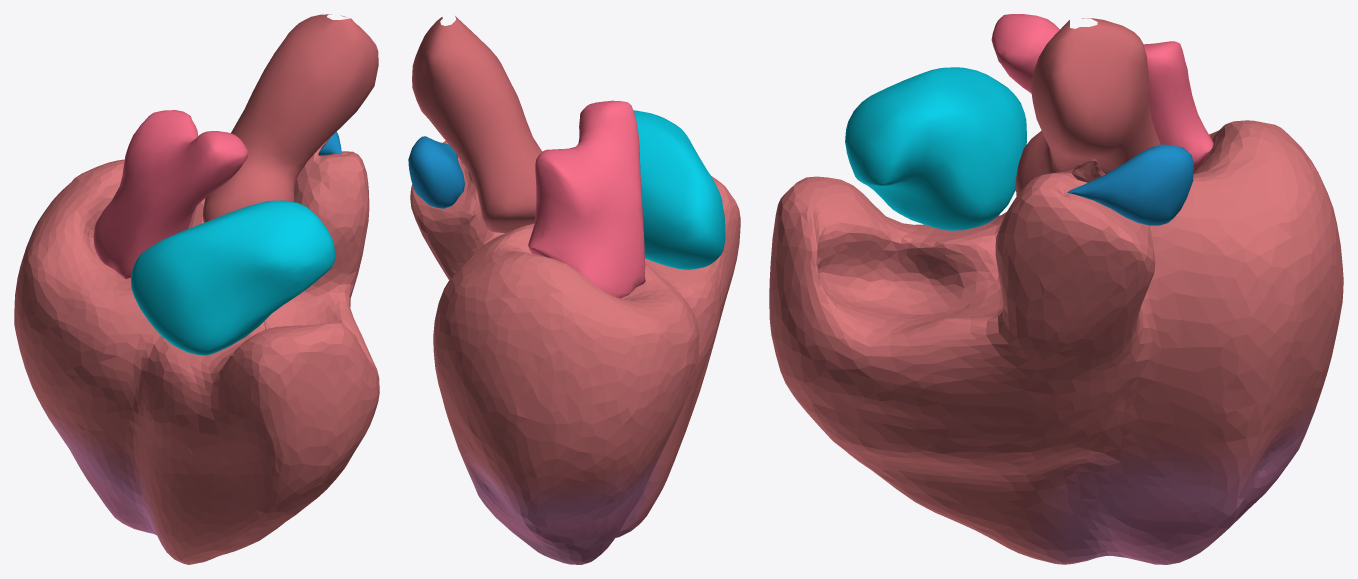
File: frame_66.glb
The picture shows the model from 3 angles, left to right: view 1: azimuth 30°, elevation 25°; view 2: azimuth 150°, elevation 25°; view 3: azimuth 270°, elevation 25°; orthographic projection. The views are drawn at different scales.
Visible parts, largest first — view 1: Renderer Node; view 2: Renderer Node; view 3: Renderer Node.
Part boxes in pixels (x1,y1,x2,y2): Renderer Node: [14, 14, 379, 564]; Renderer Node: [408, 16, 740, 564]; Renderer Node: [769, 14, 1343, 564].
Bounding box in the file's own units: 101 × 159 × 129.
